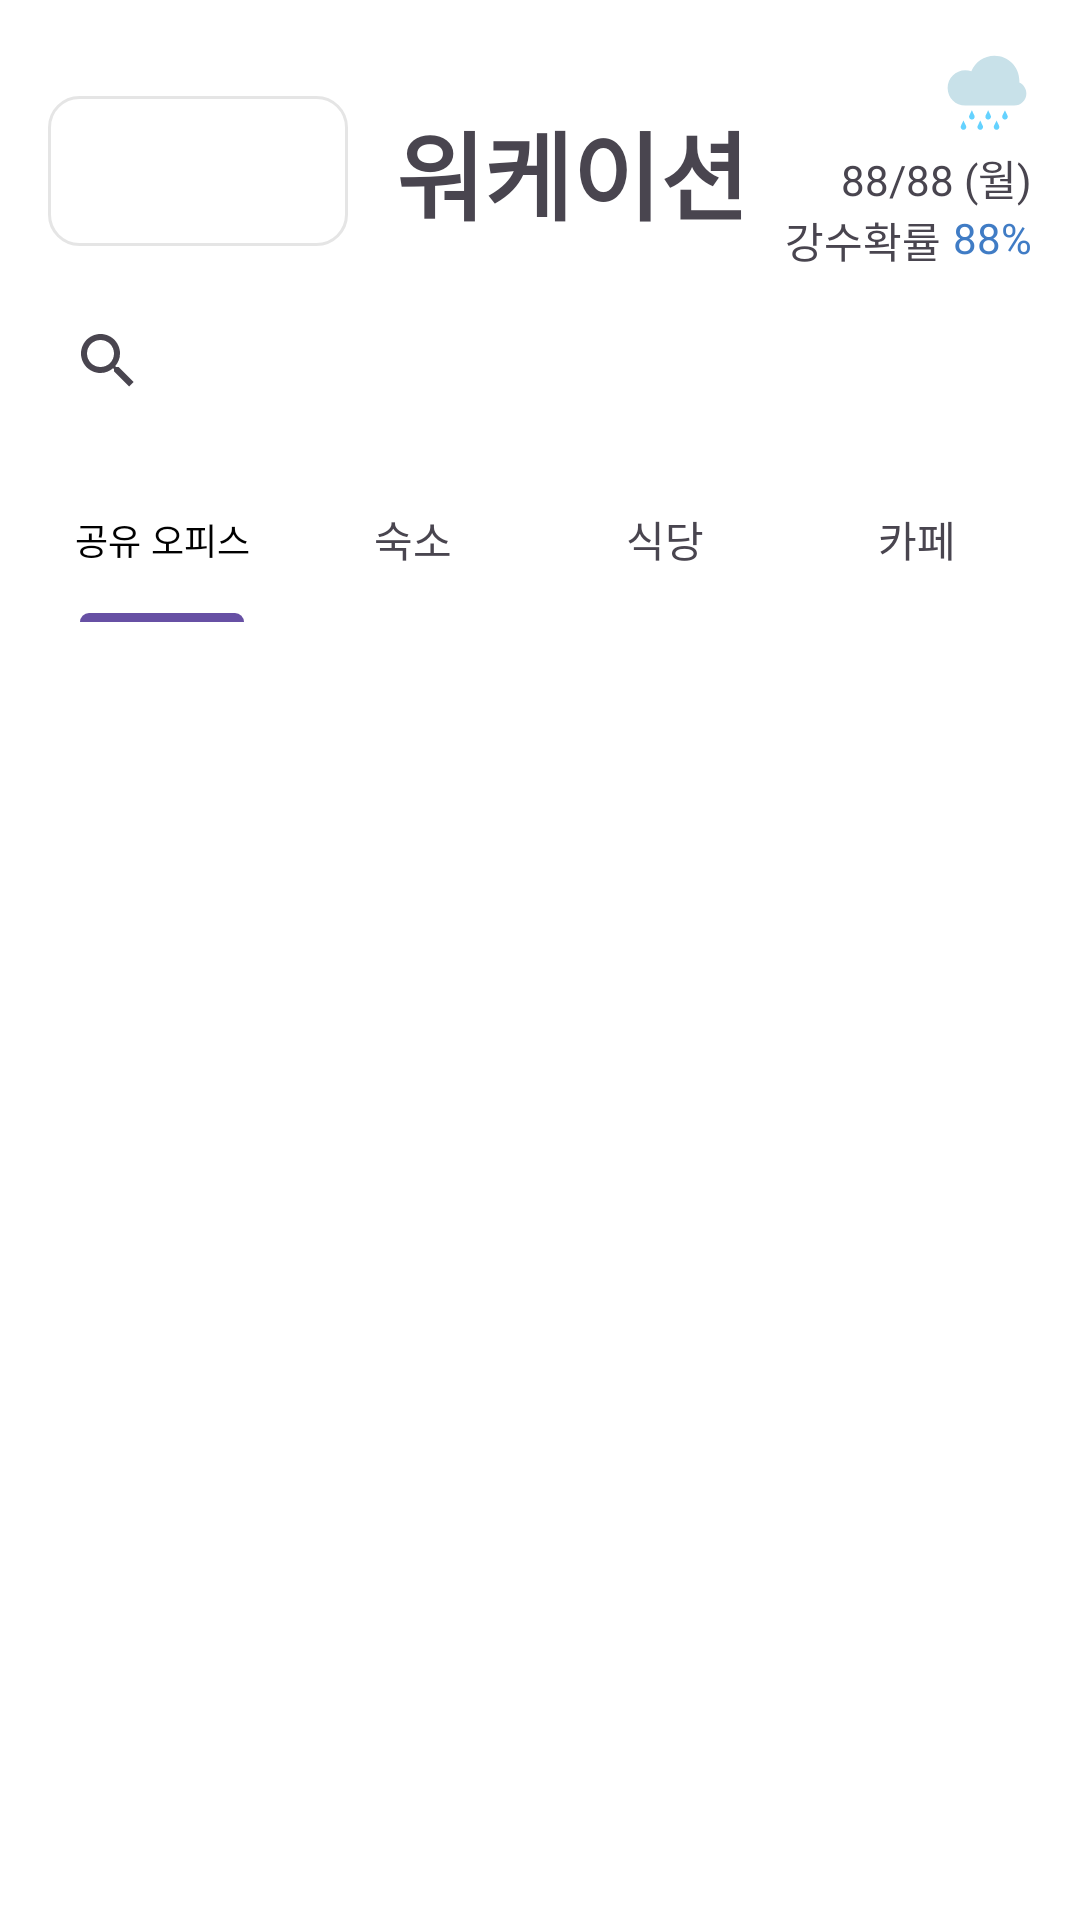

Icons on this 1080x1920 Android screen, each with the point to tap as point (x, y):
rainy: point (987, 93)
